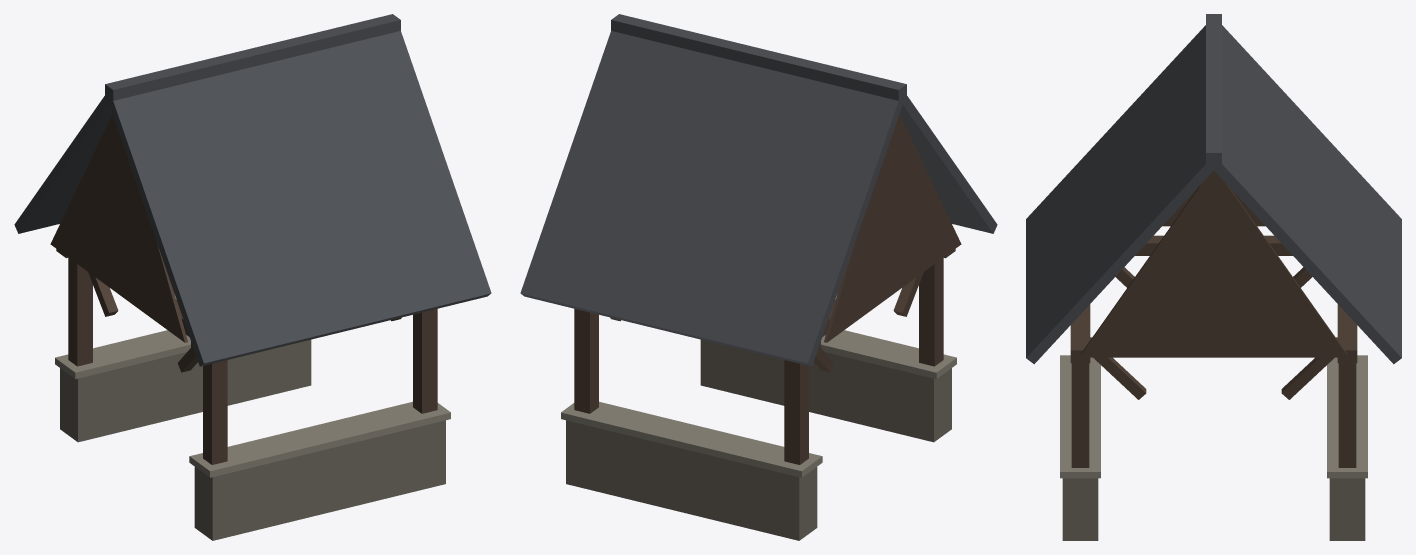
File: context.church.yard_lychgate_slate.glb
3 renders of one model, left to right at view 1: azimuth 30°, elevation 25°; view 2: azimuth 150°, elevation 25°; view 3: azimuth 270°, elevation 25°, orthographic.
Visible parts, largest first — view 1: main__clad_455, main__stone_766, main__timber_543, main__stone_887; view 2: main__clad_455, main__stone_766, main__timber_543, main__stone_887; view 3: main__clad_455, main__timber_543, main__stone_887, main__stone_766.
Part boxes in pixels (bbox=[...]): main__clad_455: bbox=[14, 14, 491, 366]; main__stone_766: bbox=[60, 339, 445, 540]; main__timber_543: bbox=[50, 114, 437, 464]; main__stone_887: bbox=[55, 330, 450, 477]; main__clad_455: bbox=[520, 14, 997, 366]; main__stone_766: bbox=[566, 339, 951, 540]; main__timber_543: bbox=[574, 114, 961, 464]; main__stone_887: bbox=[561, 330, 956, 477]; main__clad_455: bbox=[1026, 14, 1401, 364]; main__timber_543: bbox=[1070, 171, 1357, 467]; main__stone_887: bbox=[1060, 355, 1367, 478]; main__stone_766: bbox=[1062, 478, 1365, 540].
Size of the model in its own units: 3.7 by 4.97 by 4.22.
